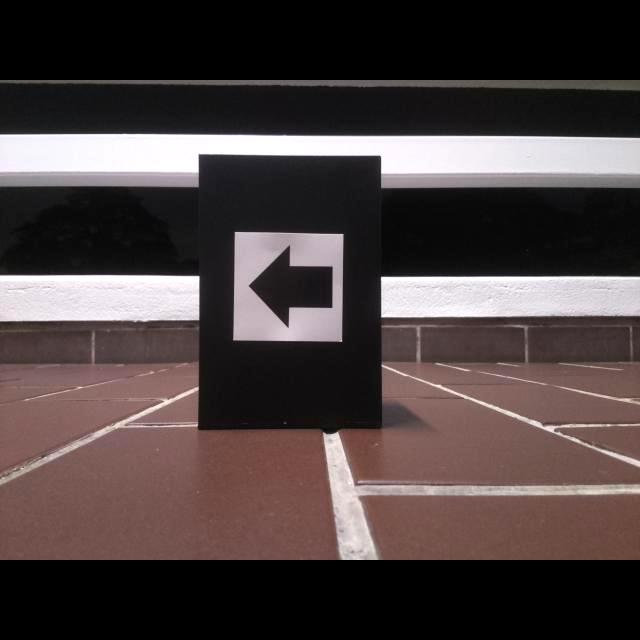LEFT: (247, 243, 333, 329)
